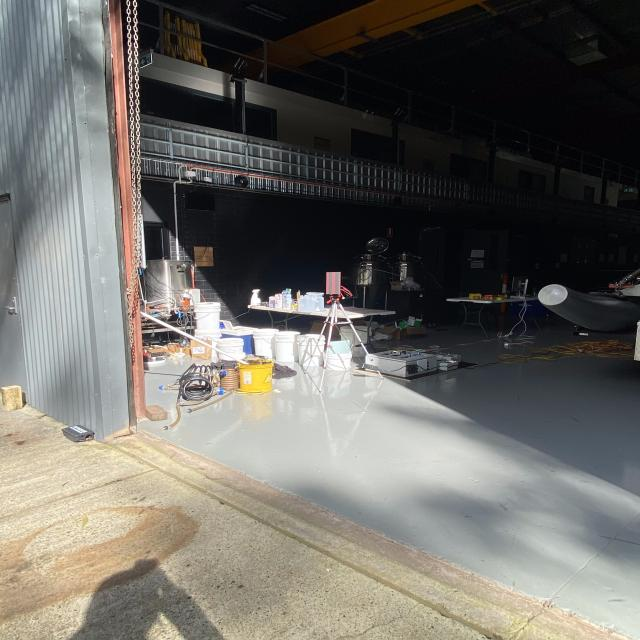matrix: (323, 270, 344, 296)
